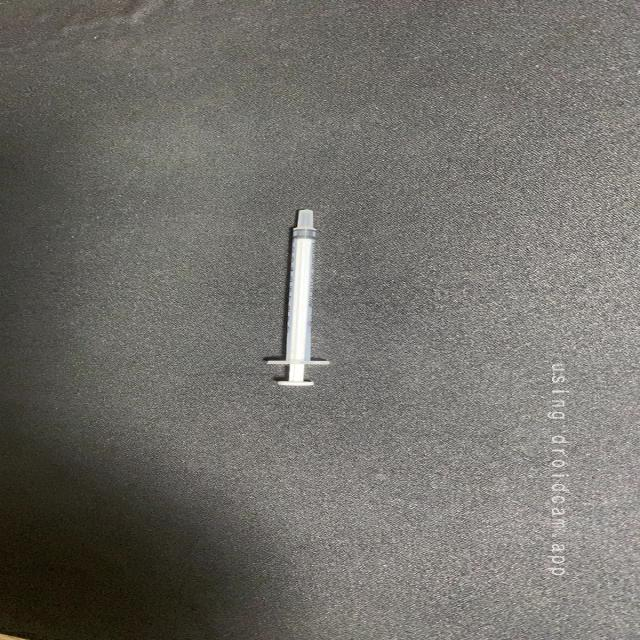syringe: (258, 202, 341, 392)
